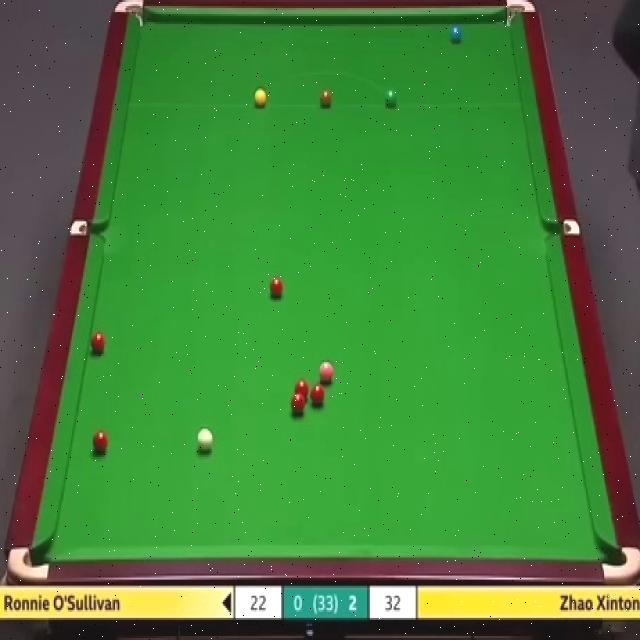blue-ball: (448, 20, 464, 45)
brown-ball: (319, 89, 333, 110)
green-ball: (384, 89, 398, 110)
pink-ball: (316, 361, 334, 385)
red-ball: (92, 429, 109, 457), (268, 275, 285, 300), (89, 331, 105, 356), (309, 383, 326, 406), (290, 393, 306, 417), (293, 379, 310, 400)
white-ball: (196, 426, 213, 455)
yellow-ball: (254, 88, 267, 109)
